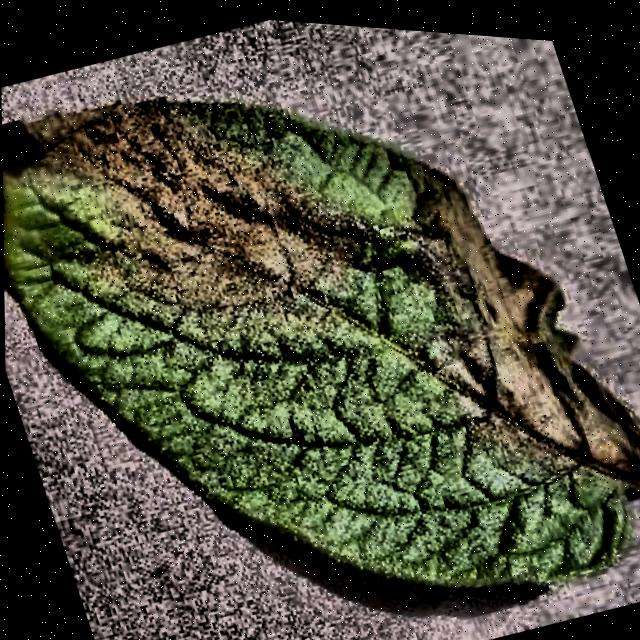Potato_leaf_late_blight: (2, 81, 640, 592)
